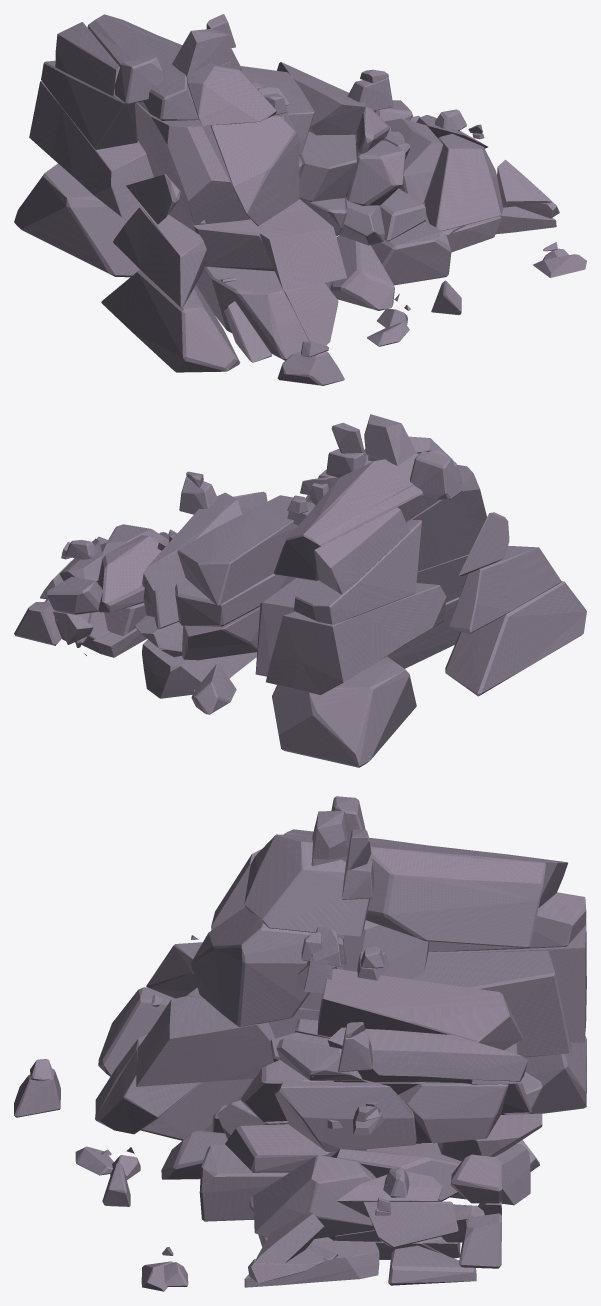
Rendered from A09_Massif_C_far.fbx.
The picture shows the model from 3 angles, top to bottom: view 1: azimuth 30°, elevation 25°; view 2: azimuth 150°, elevation 25°; view 3: azimuth 270°, elevation 25°; orthographic projection. The views are drawn at different scales.
Visible parts, largest first — view 1: A09C_0_0, A09C_0_13, A09C_0_2, A09C_0_14, A09C_0_7, A09C_0_3, A09C_2_18, A09C_0_9, A09C_0_5, A09C_0_16, A09C_0_12, A09C_0_17 (+29 smaller); view 2: A09C_0_7, A09C_0_2, A09C_0_0, A09C_0_16, A09C_1_17, A09C_0_5, A09C_0_12, A09C_0_13, A09C_0_15, A09C_0_8, A09C_1_3, A09C_2_16 (+22 smaller); view 3: A09C_0_16, A09C_1_17, A09C_0_14, A09C_0_8, A09C_0_9, A09C_0_17, A09C_1_18, A09C_1_16, A09C_2_18, A09C_1_14, A09C_0_13, A09C_1_5 (+39 smaller).
Part boxes in pixels (x1=…): A09C_0_0: x1=101, y1=270, x2=240, y2=372; A09C_0_13: x1=135, y1=102, x2=250, y2=225; A09C_0_2: x1=14, y1=163, x2=139, y2=277; A09C_0_14: x1=210, y1=114, x2=299, y2=225; A09C_0_7: x1=29, y1=81, x2=153, y2=220; A09C_0_3: x1=196, y1=266, x2=308, y2=360; A09C_2_18: x1=424, y1=133, x2=503, y2=230; A09C_0_9: x1=260, y1=199, x2=346, y2=290; A09C_0_5: x1=113, y1=206, x2=206, y2=308; A09C_0_16: x1=87, y1=14, x2=198, y2=120; A09C_0_12: x1=41, y1=60, x2=137, y2=149; A09C_0_17: x1=187, y1=63, x2=276, y2=125; A09C_0_7: x1=266, y1=583, x2=446, y2=694; A09C_0_2: x1=272, y1=656, x2=416, y2=767; A09C_0_0: x1=445, y1=581, x2=586, y2=696; A09C_0_16: x1=274, y1=450, x2=461, y2=580; A09C_1_17: x1=177, y1=495, x2=315, y2=605; A09C_0_5: x1=449, y1=545, x2=561, y2=633; A09C_0_12: x1=293, y1=520, x2=421, y2=624; A09C_0_13: x1=406, y1=464, x2=486, y2=571; A09C_0_15: x1=314, y1=507, x2=409, y2=594; A09C_0_8: x1=255, y1=554, x2=468, y2=676; A09C_1_3: x1=142, y1=639, x2=256, y2=698; A09C_2_16: x1=98, y1=535, x2=161, y2=612; A09C_0_16: x1=284, y1=829, x2=546, y2=947; A09C_1_17: x1=317, y1=968, x2=523, y2=1050; A09C_0_14: x1=190, y1=907, x2=344, y2=1026; A09C_0_8: x1=187, y1=950, x2=571, y2=1057; A09C_0_9: x1=136, y1=996, x2=275, y2=1086; A09C_0_17: x1=244, y1=834, x2=370, y2=936; A09C_1_18: x1=327, y1=1027, x2=527, y2=1083; A09C_1_16: x1=275, y1=1081, x2=416, y2=1151; A09C_2_18: x1=253, y1=1155, x2=376, y2=1238; A09C_1_14: x1=398, y1=1083, x2=508, y2=1143; A09C_0_13: x1=211, y1=849, x2=429, y2=1010; A09C_1_5: x1=199, y1=1145, x2=289, y2=1221.
Bounding box in the file's own units: 588 × 322 × 560.
